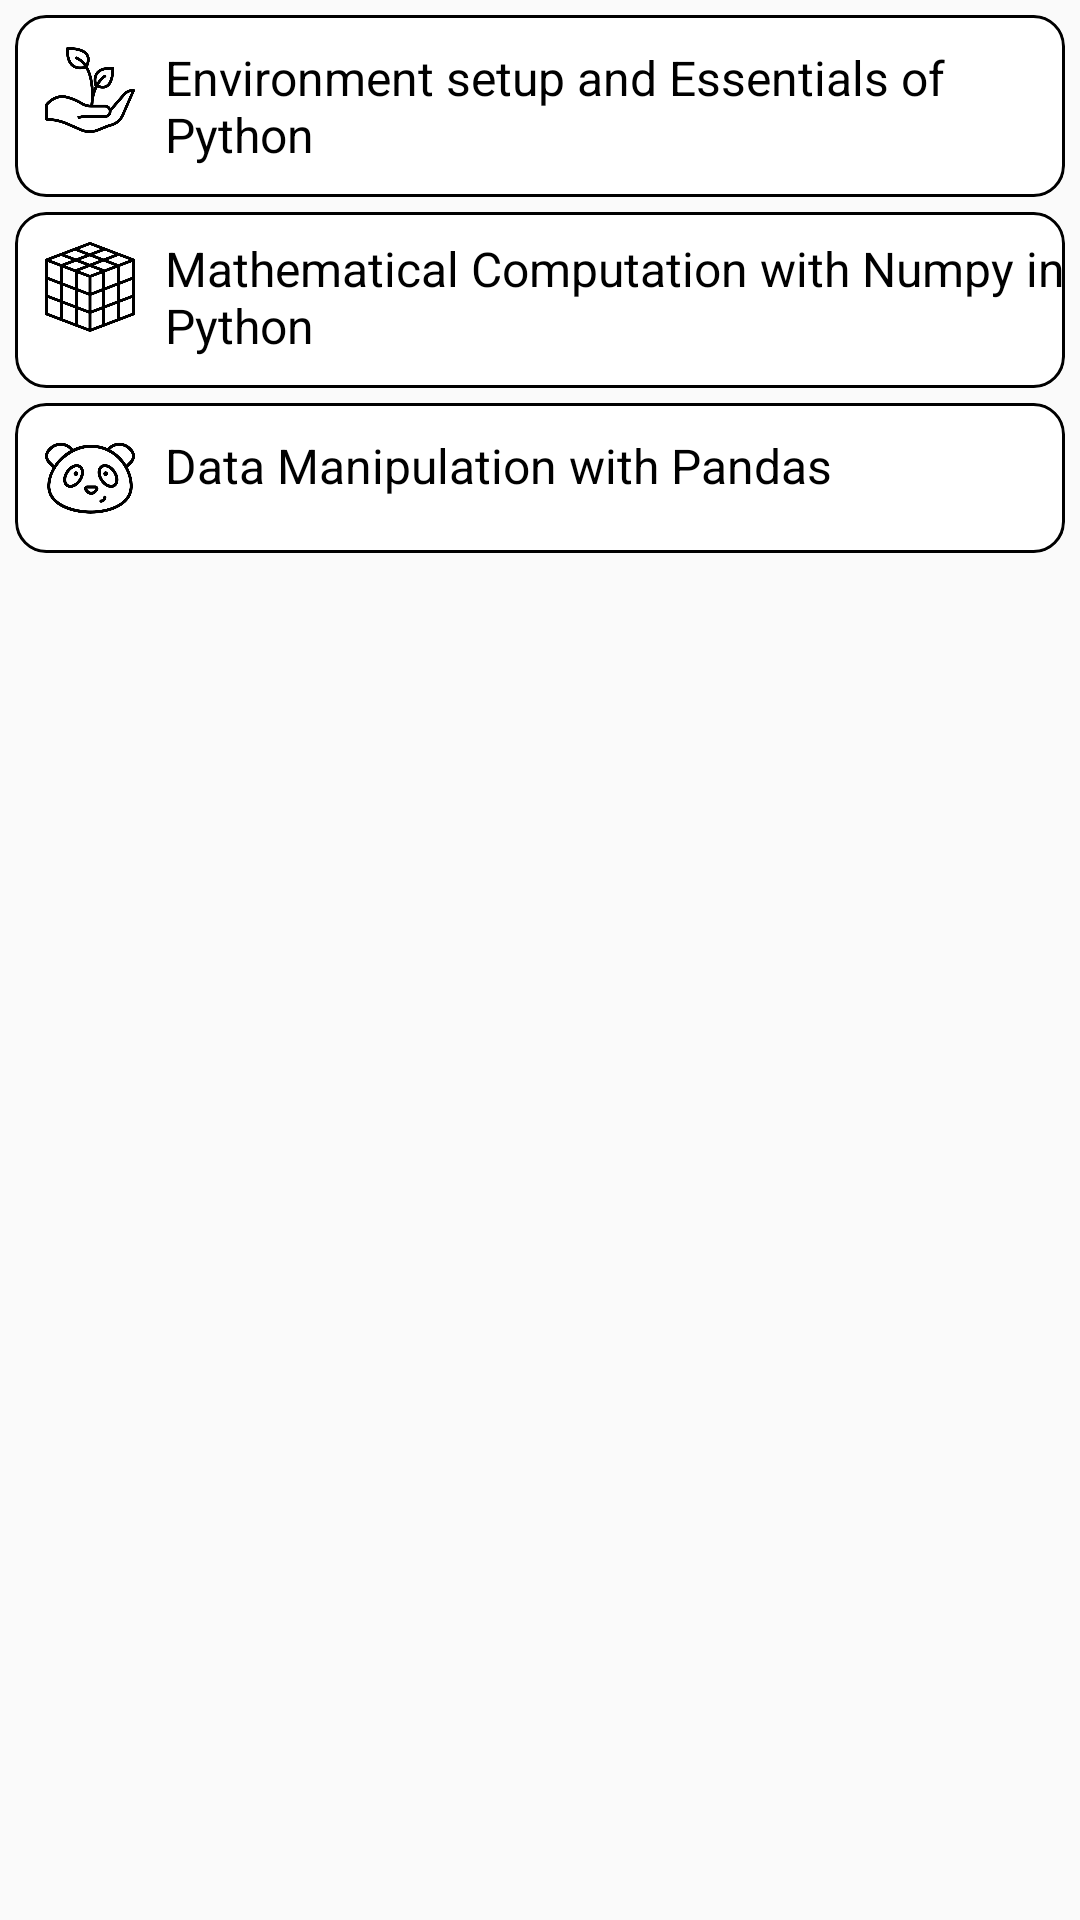

Icons on this 1080 x 1920 Android screen, each with the point to tap as [x,y]:
env essential: [90,90]
